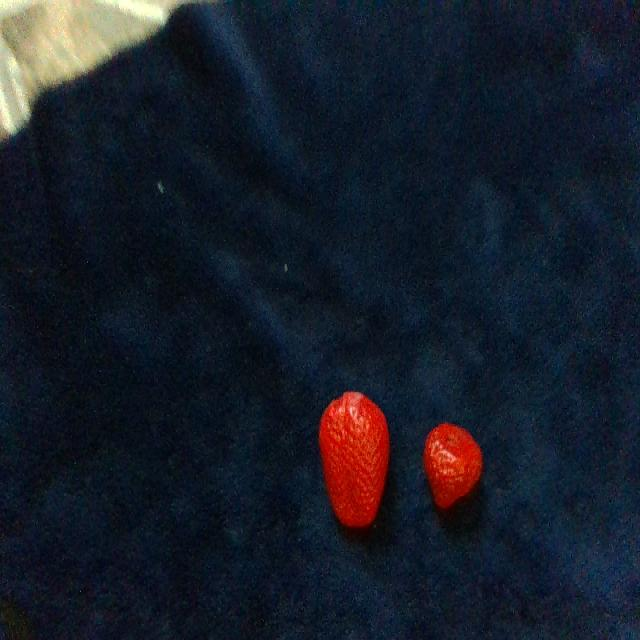chica_roja: (424, 424, 481, 508)
grande_roja: (320, 392, 389, 525)
